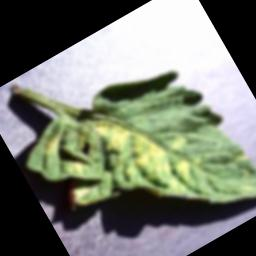Leaf_Mold: (88, 82, 210, 217)
